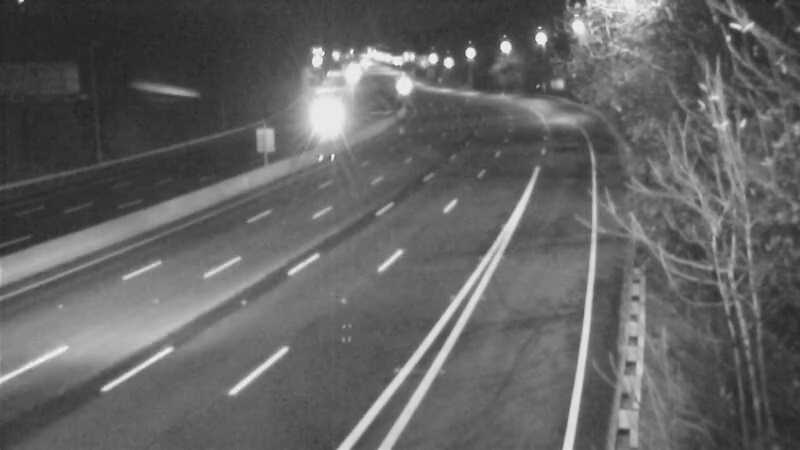vehicle: (381, 61, 431, 111), (305, 86, 355, 136)
